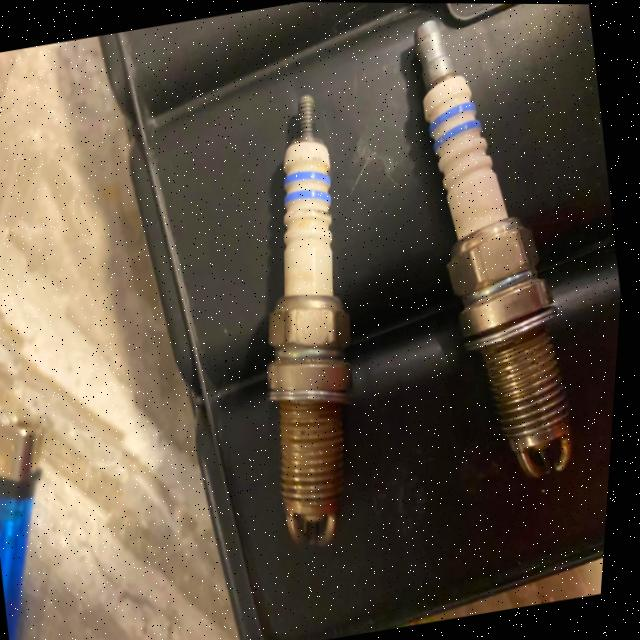spark-plug: (407, 16, 585, 474), (279, 83, 348, 563)
